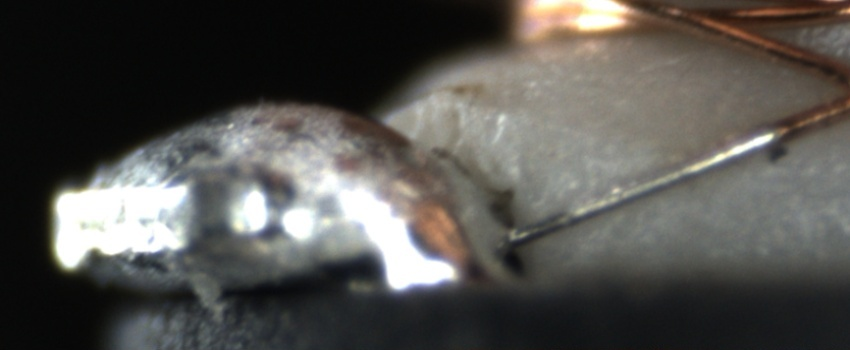DL: (572, 139, 718, 182)
TS: (509, 128, 778, 244)
